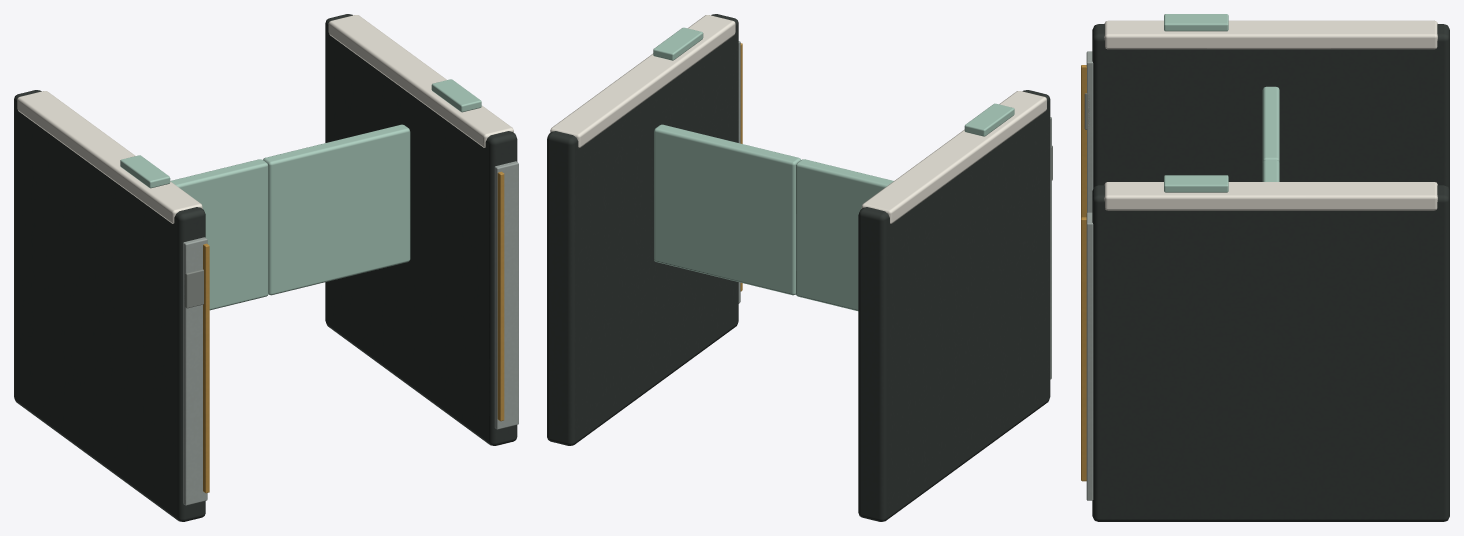
The model's file is fare-gate-closed.glb.
3 views of the same model, side by side, from view 1: azimuth 30°, elevation 25°; view 2: azimuth 150°, elevation 25°; view 3: azimuth 270°, elevation 25° (orthographic). The views are drawn at different scales.
Parts seen in each view (by area): view 1: gate_cabinet (×2), gate_blade (×2), gate_top (×2), gate_front_panel (×2), gate_trim (×2), tap_pad (×2), status_indicator; view 2: gate_cabinet (×2), gate_blade (×2), gate_top (×2), tap_pad (×2); view 3: gate_cabinet (×2), gate_top (×2), gate_front_panel (×2), gate_trim (×2), tap_pad (×2), gate_blade.
Boxes of the visible parts, x1,y1,x2,y2 form: gate_cabinet (×2): [14, 14, 517, 521]; gate_blade (×2): [170, 124, 410, 310]; gate_top (×2): [17, 15, 513, 223]; gate_front_panel (×2): [183, 161, 518, 505]; gate_trim (×2): [203, 171, 504, 493]; tap_pad (×2): [120, 79, 481, 188]; status_indicator: [184, 269, 203, 308]; gate_cabinet (×2): [547, 14, 1050, 521]; gate_blade (×2): [654, 124, 893, 310]; gate_top (×2): [550, 15, 1046, 223]; tap_pad (×2): [653, 27, 1014, 136]; gate_cabinet (×2): [1092, 24, 1449, 521]; gate_top (×2): [1104, 20, 1437, 210]; gate_front_panel (×2): [1086, 51, 1093, 500]; gate_trim (×2): [1081, 65, 1086, 481]; tap_pad (×2): [1164, 14, 1228, 192]; gate_blade: [1262, 86, 1279, 162].
Bounding box in the file's own units: 1.23 × 1.09 × 1.08.
6 materials, 3 textured.
